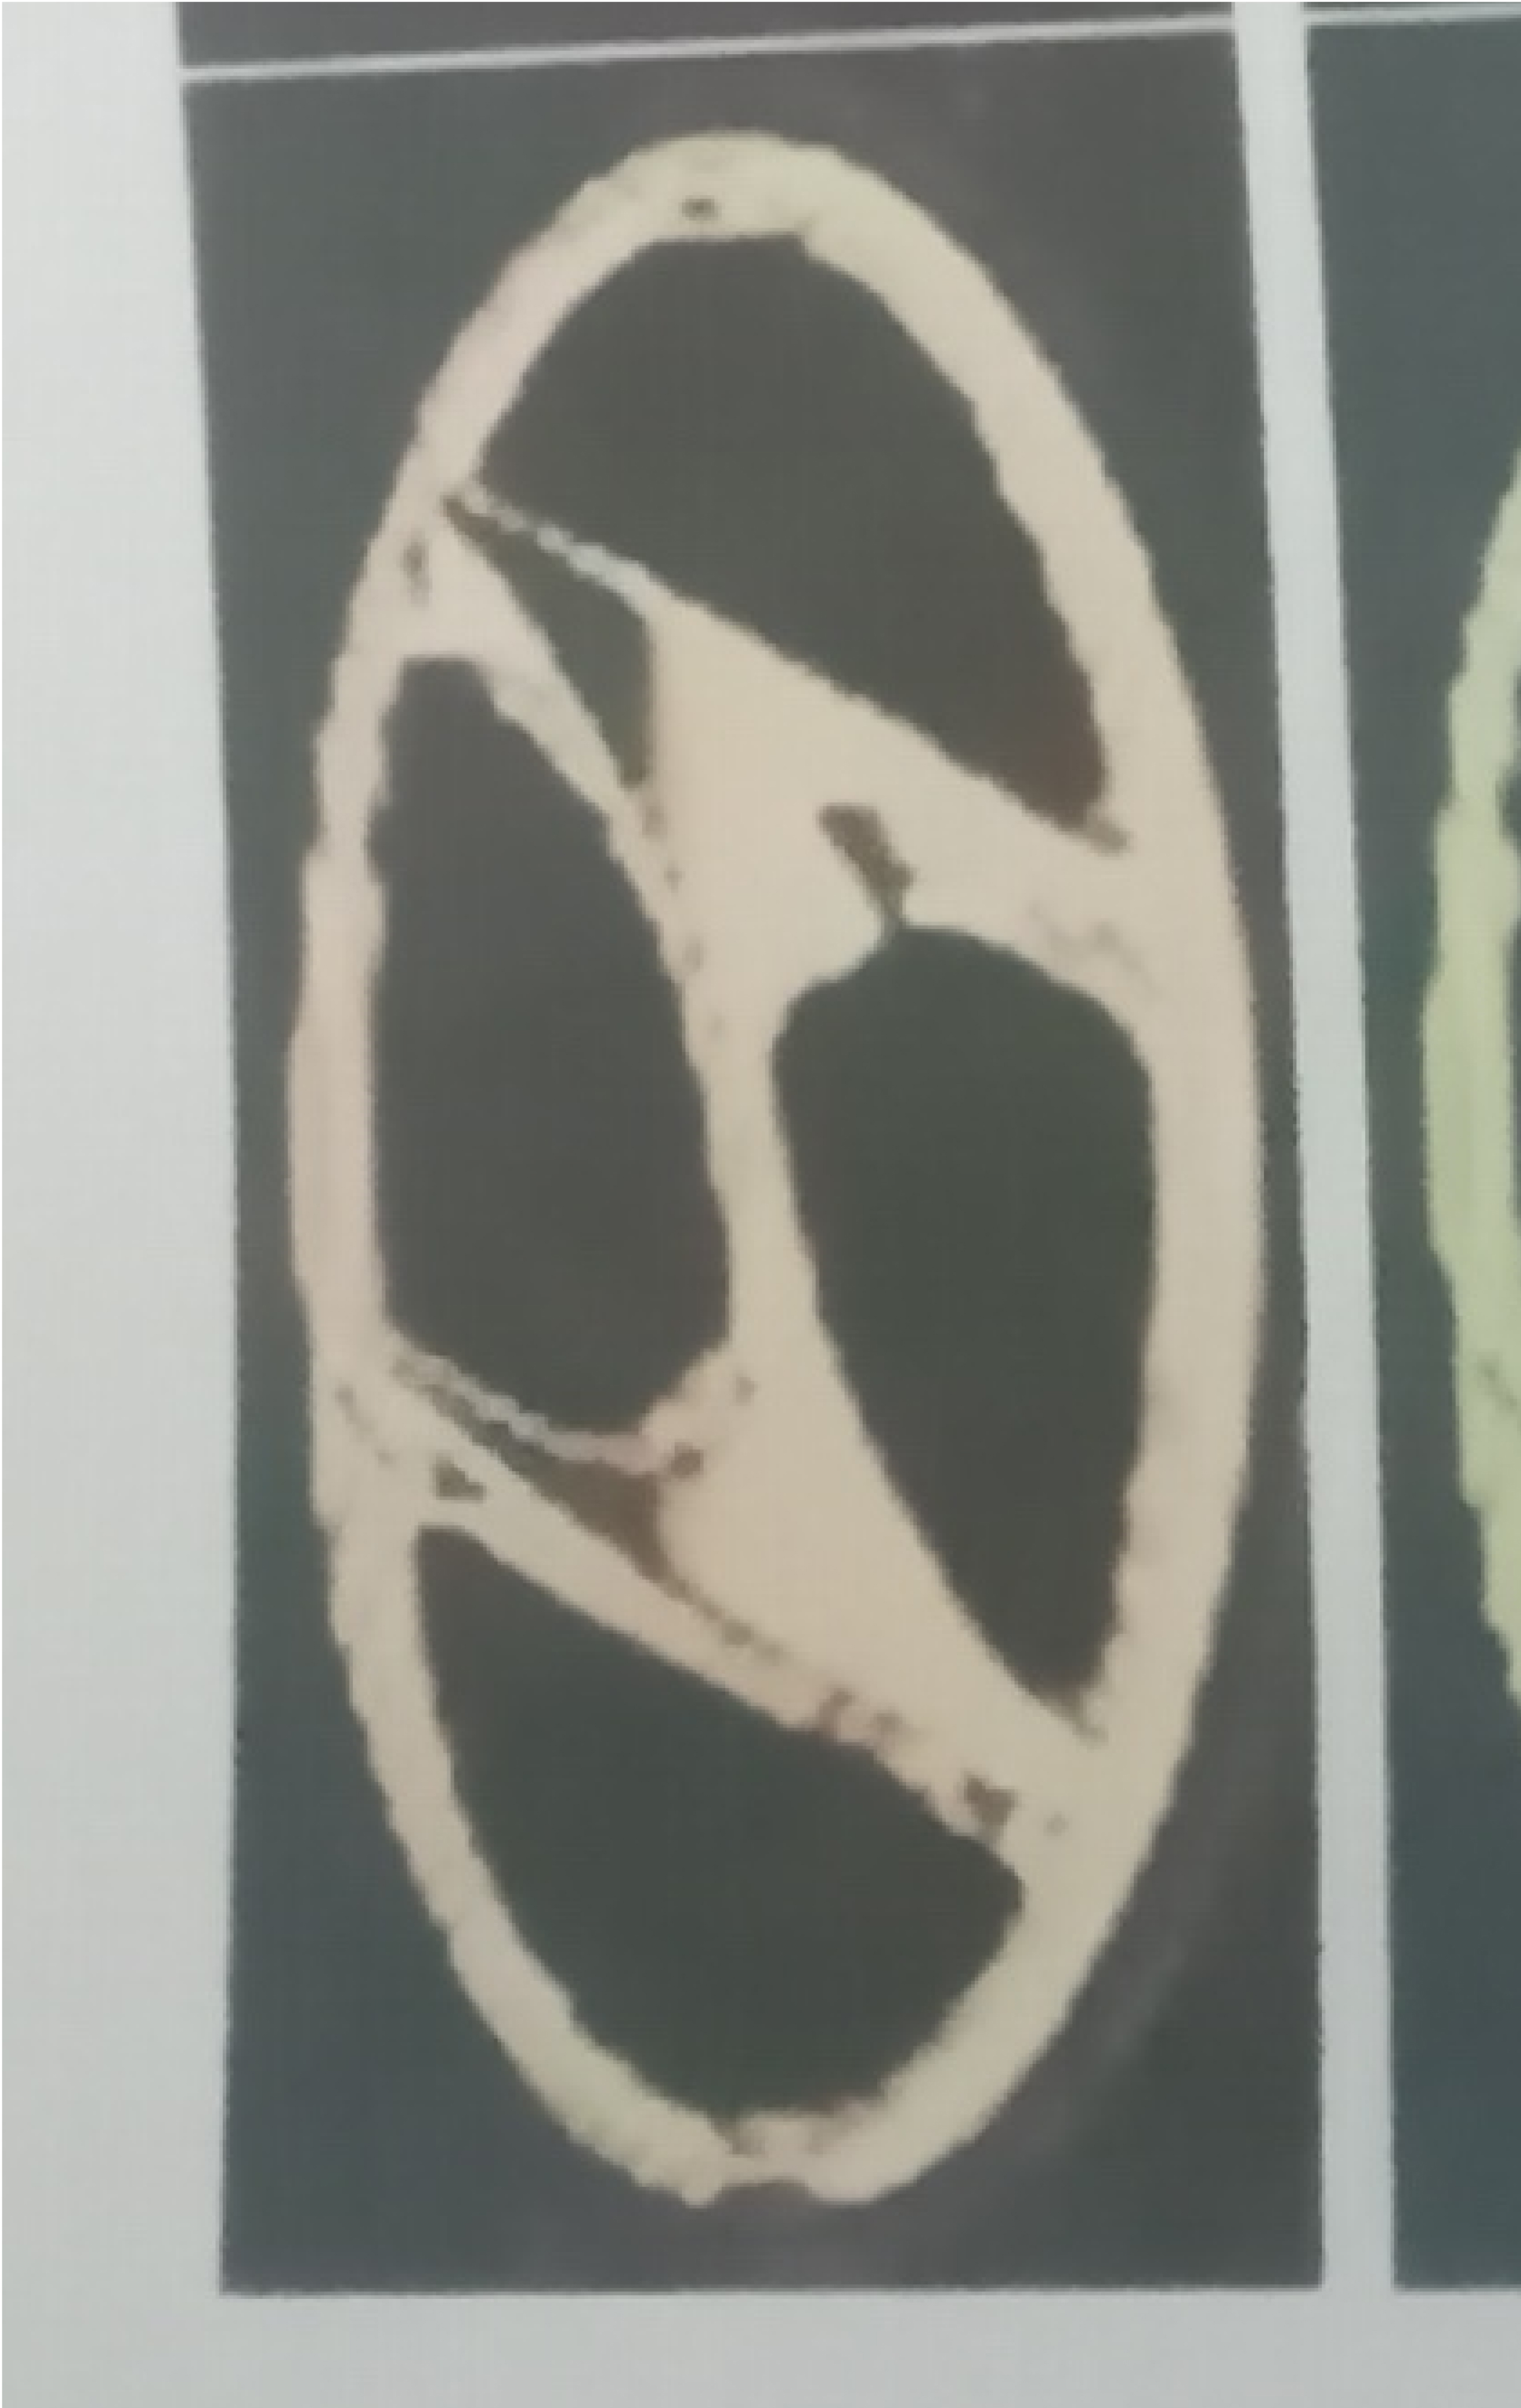Hyundai: (119, 63, 1349, 2383)
